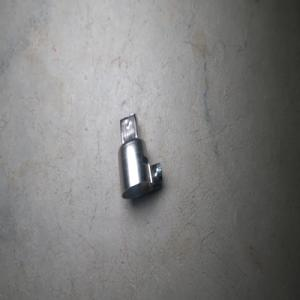MetalPart: (117, 112, 163, 199)
